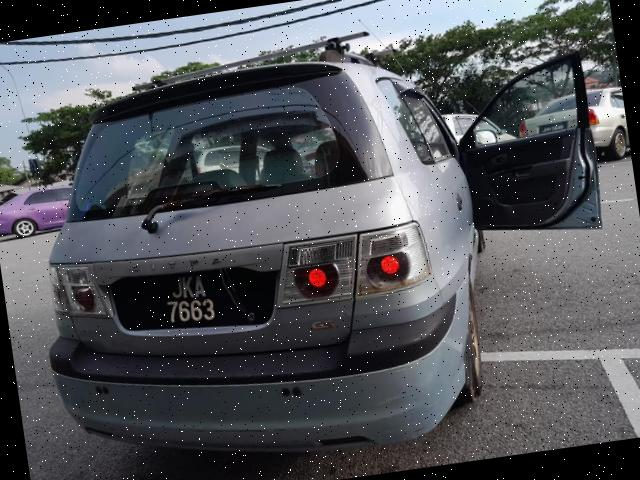License_Plate: (142, 265, 233, 333)
car: (1, 35, 514, 480)
